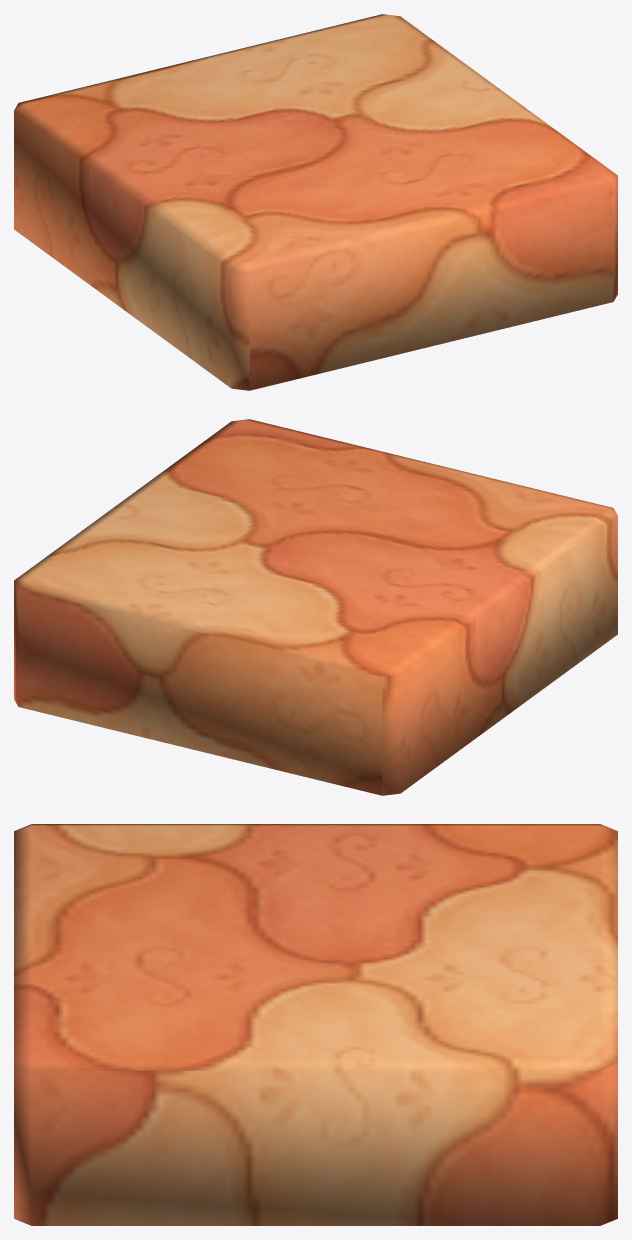
The model's file is Stone_Block.fbx.
3 views of the same model, one above another, from view 1: azimuth 30°, elevation 25°; view 2: azimuth 150°, elevation 25°; view 3: azimuth 270°, elevation 25° (orthographic). The views are drawn at different scales.
Visible parts, largest first — view 1: Stone_Block; view 2: Stone_Block; view 3: Stone_Block.
Part boxes in pixels (x1=…): Stone_Block: x1=14, y1=14, x2=617, y2=390; Stone_Block: x1=14, y1=419, x2=617, y2=795; Stone_Block: x1=14, y1=824, x2=617, y2=1225.
Bounding box in the file's own units: 0.3413 × 0.1065 × 0.3533.
